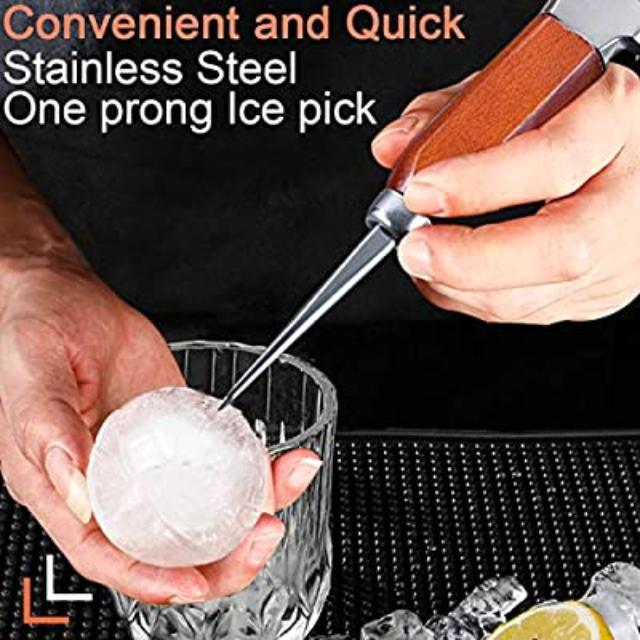ice pick: (214, 0, 640, 412)
